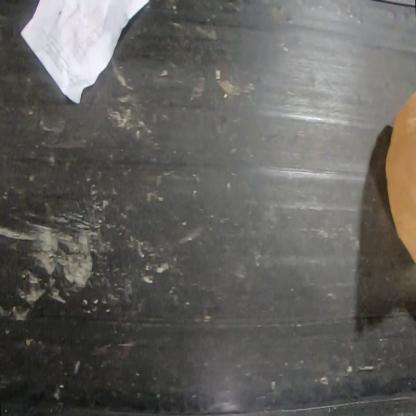soft_plastic: (385, 91, 415, 266)
